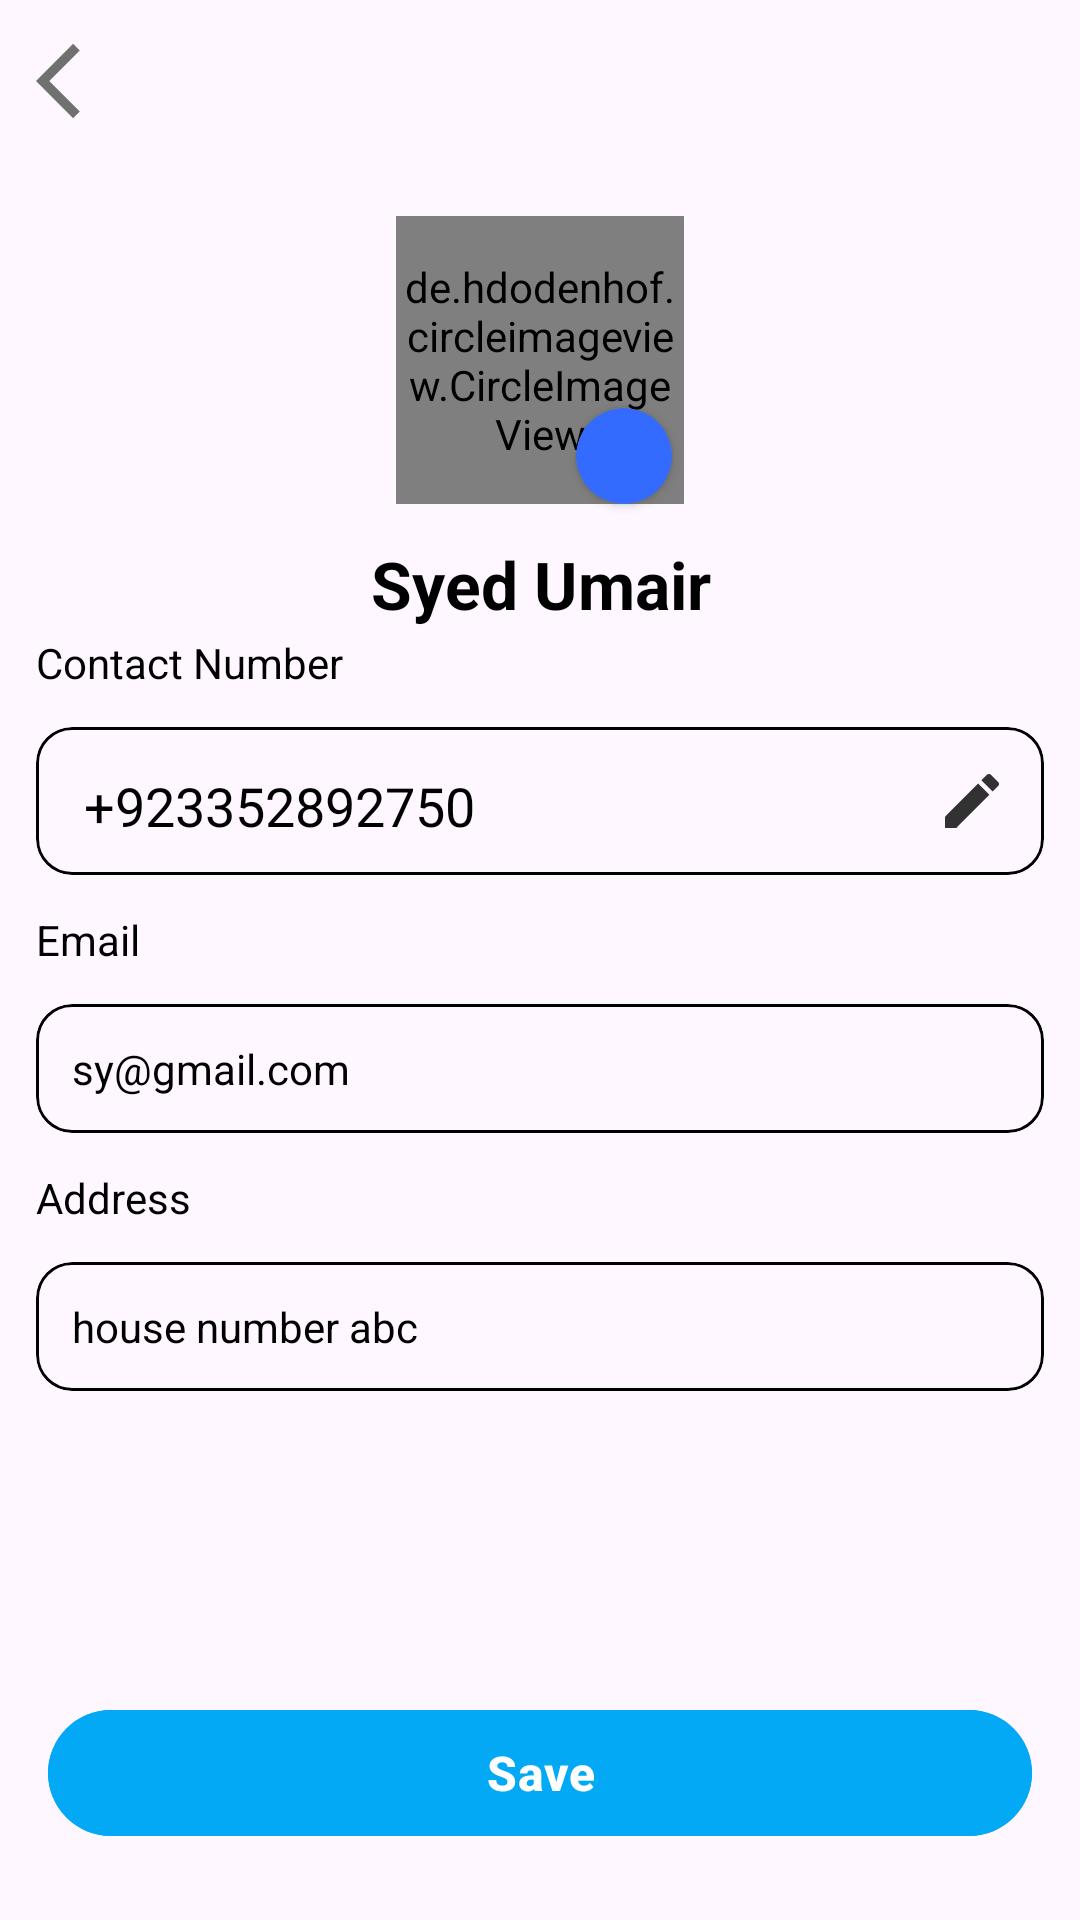

Named icons in this screenshot (1080px x 1920px) and their centers, [x,y]:
arrow back: [58,81]
Edit: [972,801]
